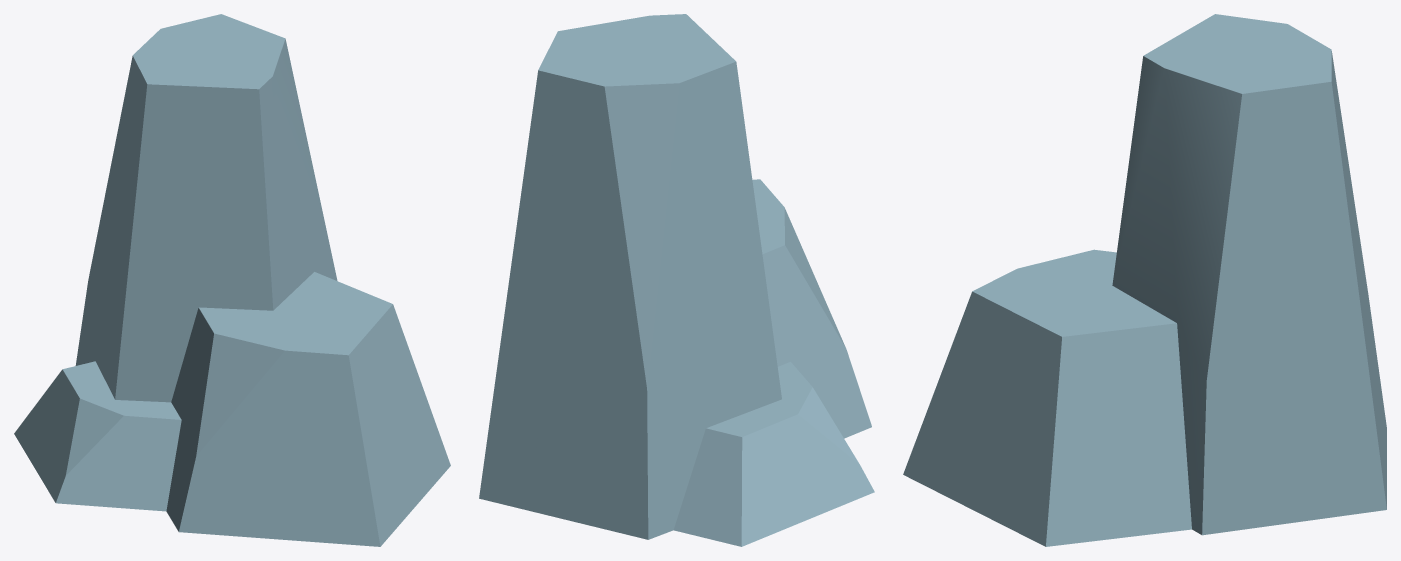
The model's file is rockSmall.fbx.
3 renders of one model, left to right at view 1: azimuth 30°, elevation 25°; view 2: azimuth 150°, elevation 25°; view 3: azimuth 270°, elevation 25°, orthographic. The views are drawn at different scales.
Parts seen in each view (by area): view 1: rockSmall; view 2: rockSmall; view 3: rockSmall.
Boxes of the visible parts, x1,y1,x2,y2 form: rockSmall: (14, 14, 450, 546); rockSmall: (479, 14, 874, 546); rockSmall: (903, 14, 1386, 546).
Size of the model in its own units: 9.42 by 10.2 by 10.83.
